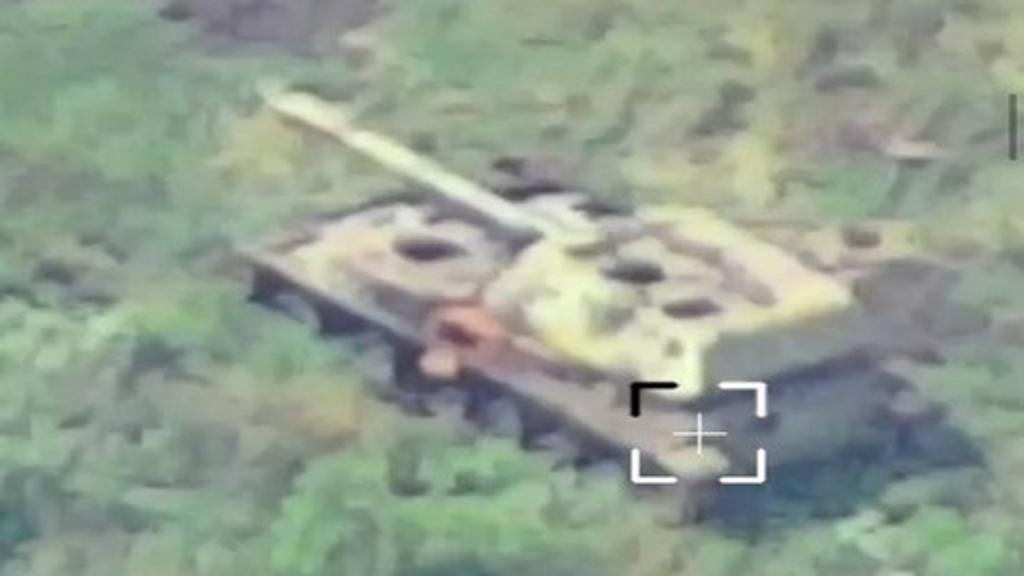ART: (234, 68, 890, 506)
